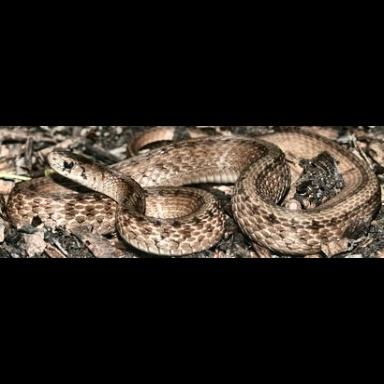snake: (7, 132, 384, 258)
